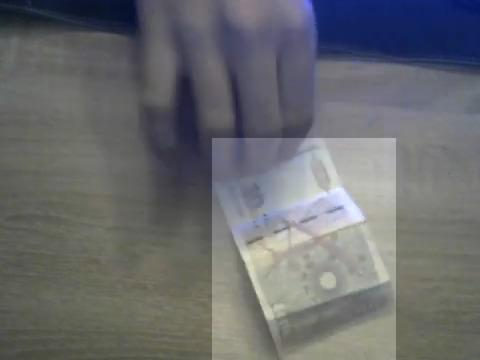10leva: (212, 138, 396, 360)
